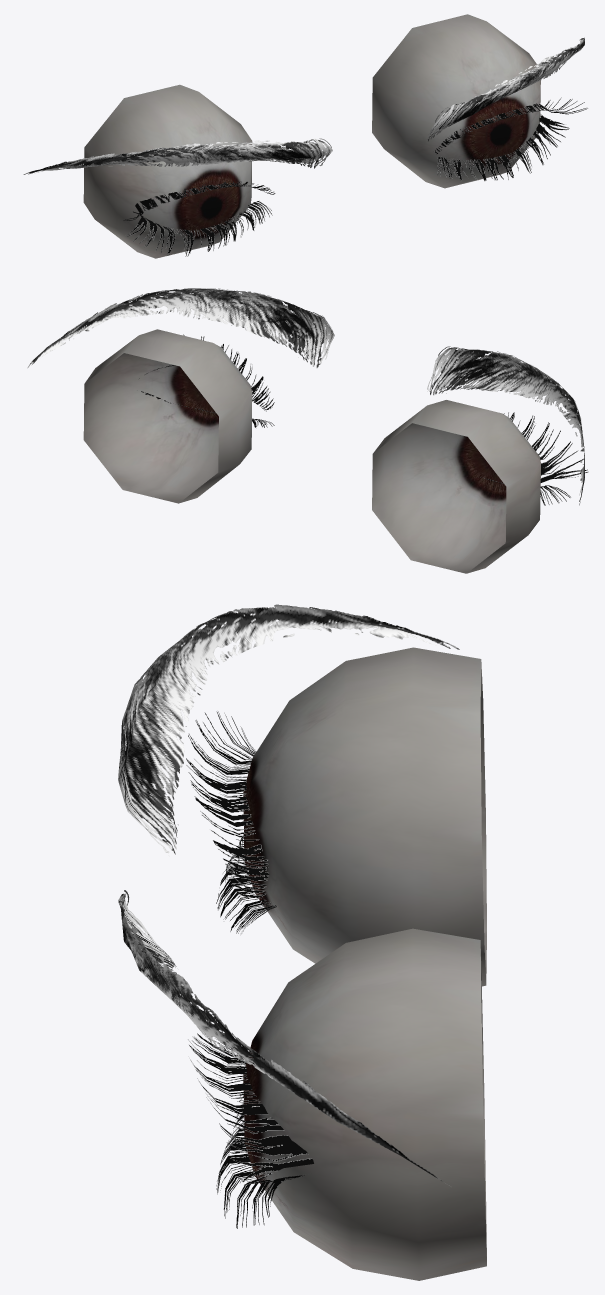
The picture shows the model from 3 angles, top to bottom: view 1: azimuth 30°, elevation 25°; view 2: azimuth 150°, elevation 25°; view 3: azimuth 270°, elevation 25°; orthographic projection. The views are drawn at different scales.
Parts seen in each view (by area): view 1: eyes, eyebrows, eyelashes; view 2: eyes, eyebrows, eyelashes; view 3: eyes, eyebrows, eyelashes.
Part boxes in pixels (x1,y1,x2,y2): eyes: [83, 14, 540, 258]; eyebrows: [23, 37, 584, 174]; eyelashes: [123, 97, 587, 256]; eyes: [83, 329, 540, 573]; eyebrows: [27, 288, 584, 505]; eyelashes: [139, 334, 588, 505]; eyes: [243, 647, 486, 1280]; eyebrows: [118, 604, 459, 1186]; eyelashes: [186, 711, 313, 1228].
Size of the model in its own units: 0.1116 by 0.029 by 0.0315.
3 materials, 3 textured.
